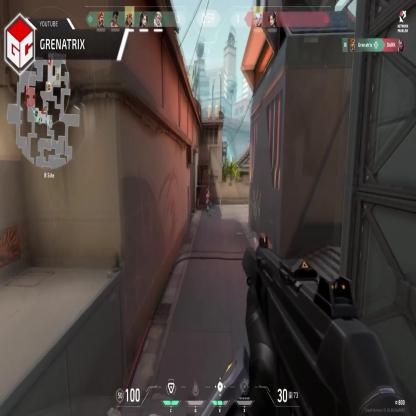enemy: (205, 189, 209, 209)
enemy_head: (208, 190, 210, 193)
